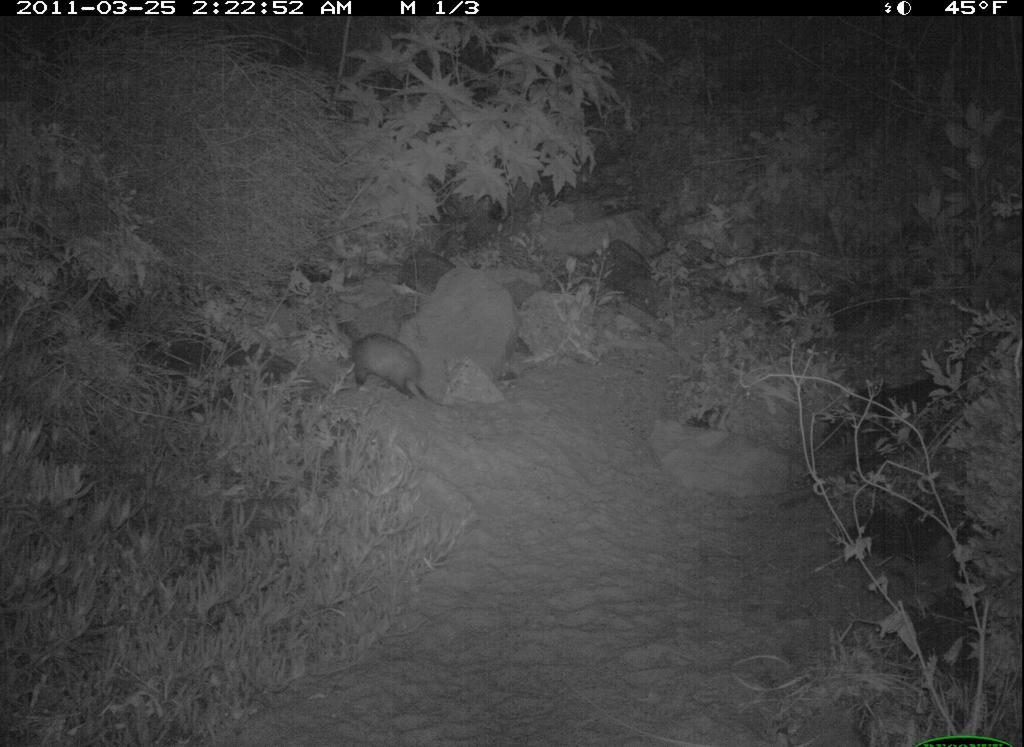opossum: (329, 305, 452, 418)
